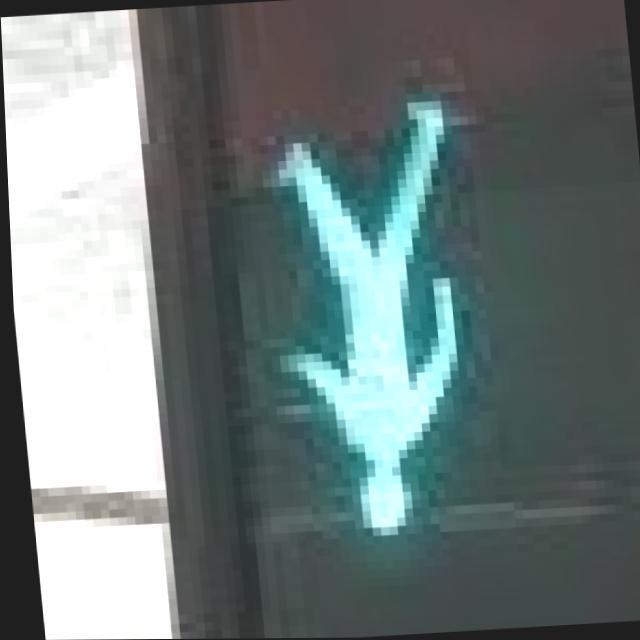green_light: (191, 65, 513, 577)
